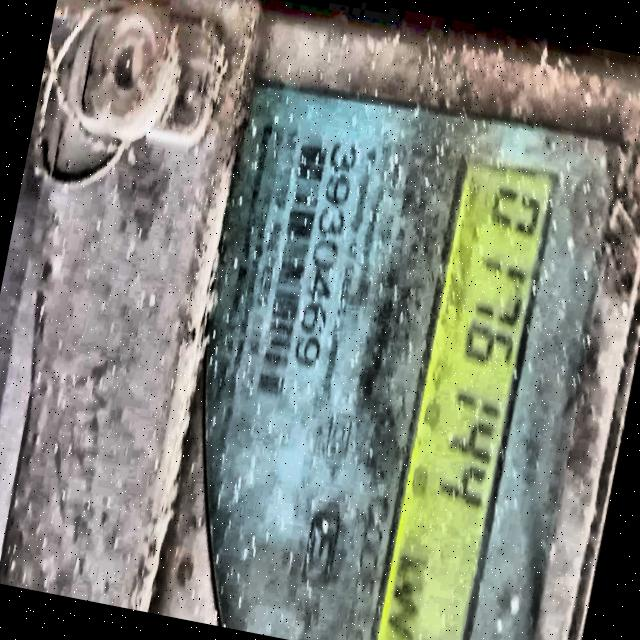Digital: (125, 0, 640, 640)
Reading: (433, 169, 546, 522)
Serial No.: (289, 142, 360, 369)
